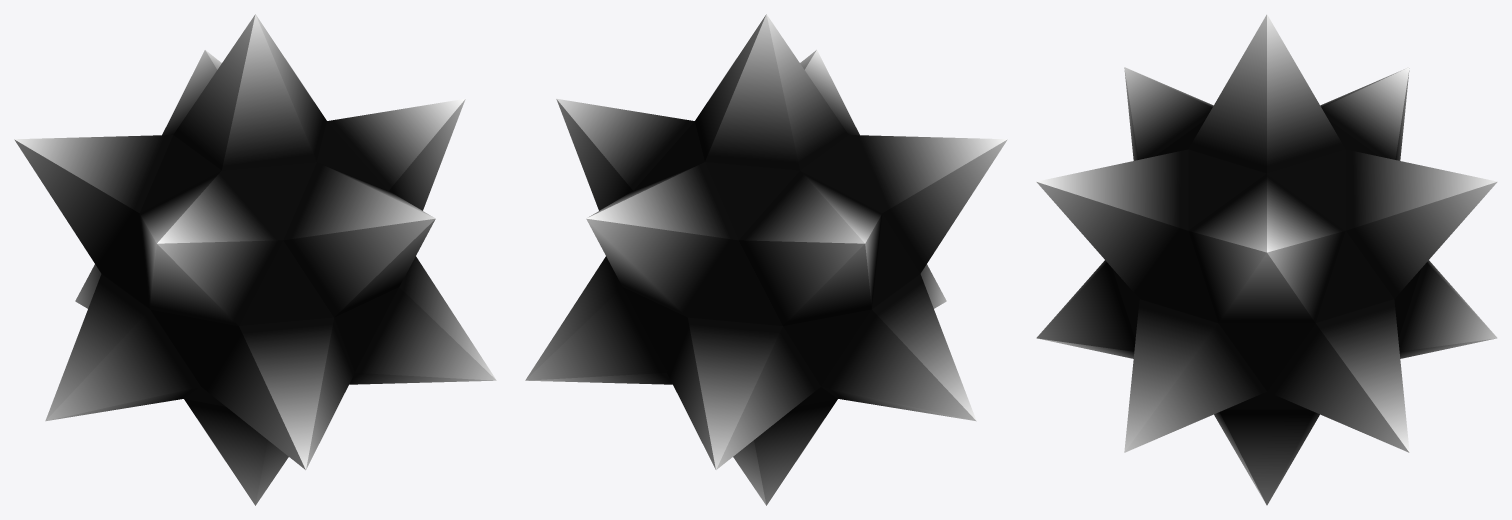
The model's file is spikeball.dae.
The picture shows the model from 3 angles, left to right: view 1: azimuth 30°, elevation 25°; view 2: azimuth 150°, elevation 25°; view 3: azimuth 270°, elevation 25°; orthographic projection.
Visible parts, largest first — view 1: Icosphere; view 2: Icosphere; view 3: Icosphere.
Boxes of the visible parts, box(x1,y1,x2,y2) form: Icosphere: box(14, 14, 496, 505); Icosphere: box(525, 14, 1007, 505); Icosphere: box(1036, 14, 1497, 505).
Bounding box in the file's own units: 1.79 × 1.7 × 2.
Materials: 1 (1 with a texture image).
